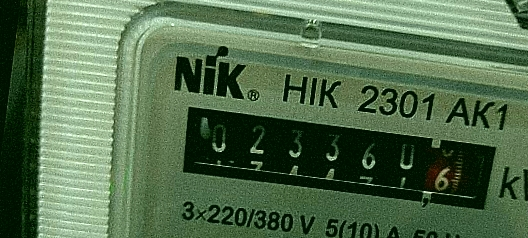0: (206, 118, 231, 154), (396, 138, 417, 171)
2: (243, 120, 271, 157)
3: (281, 125, 306, 159), (320, 129, 343, 162)
6: (428, 160, 453, 192), (356, 136, 379, 170)
screen: (159, 86, 511, 226)
